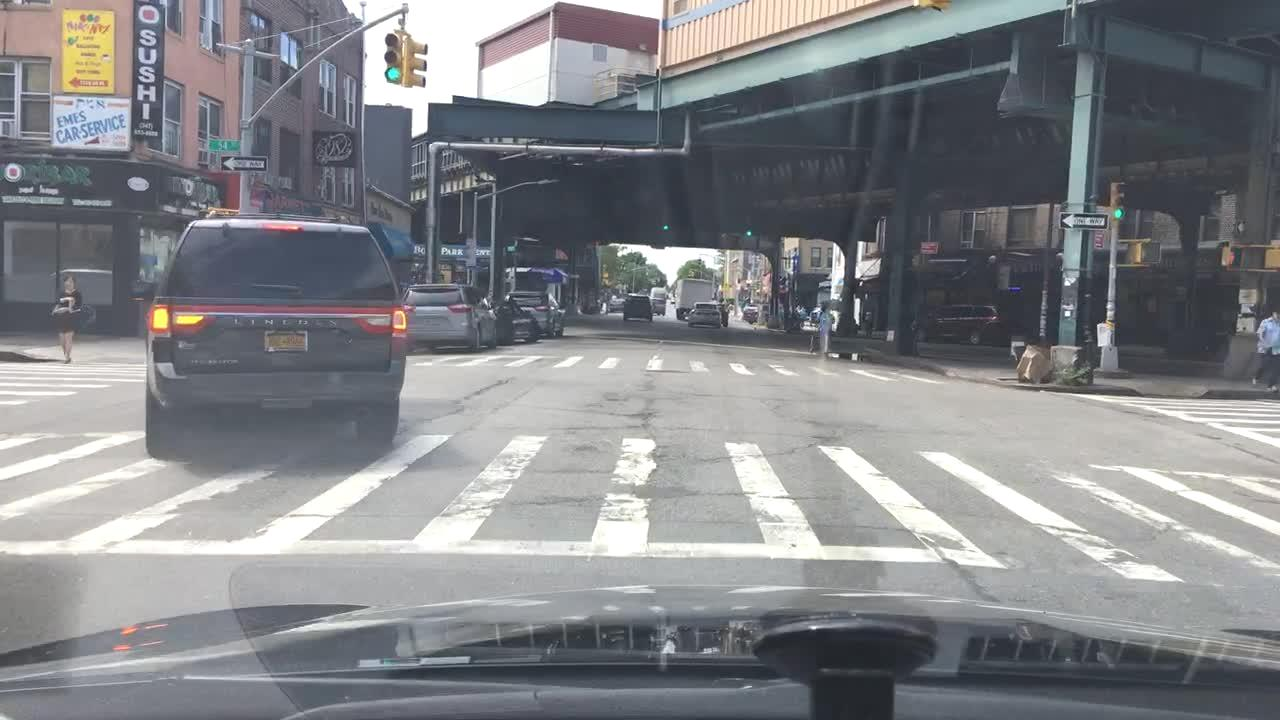lincoln: (230, 315, 343, 328)
